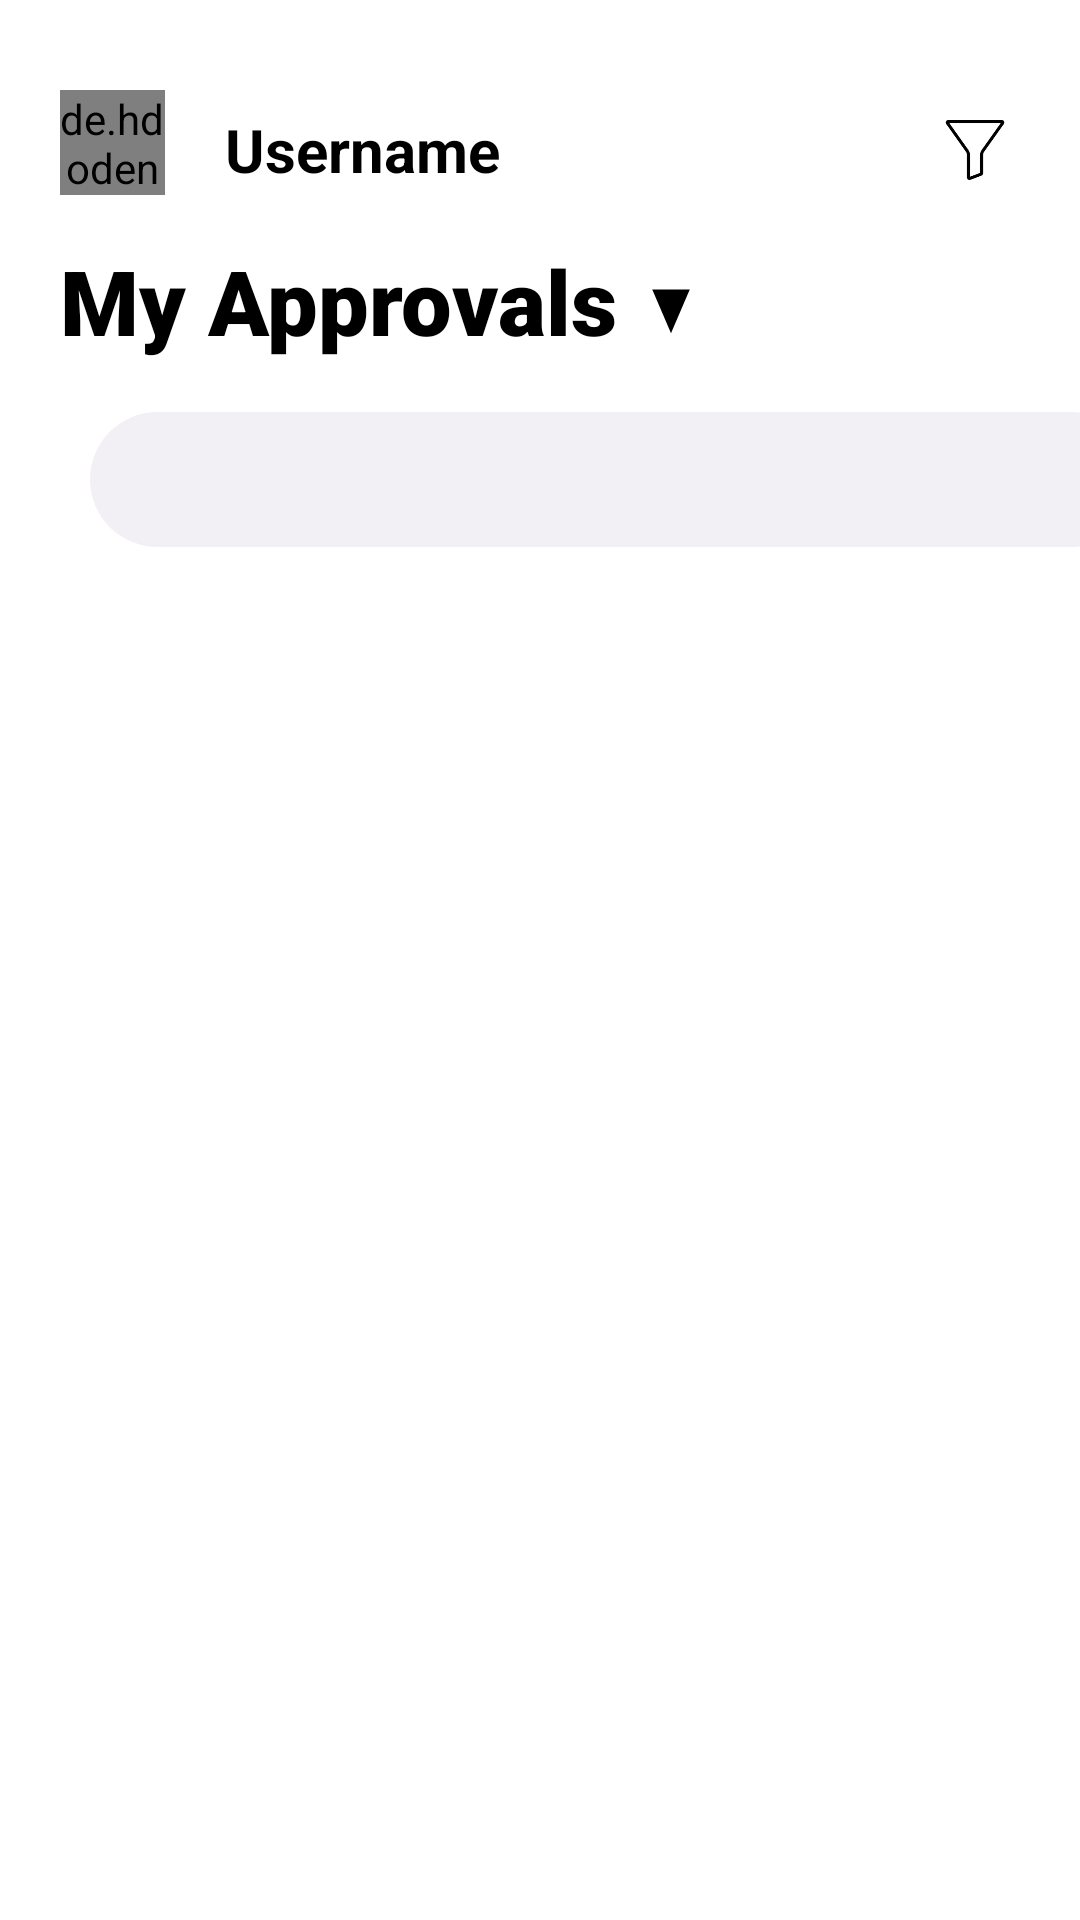

Screen size 1080 x 1920. Icon name, then its box in pixels as (x1, y1, x2, y2):
filter: (945, 120, 1005, 180)
